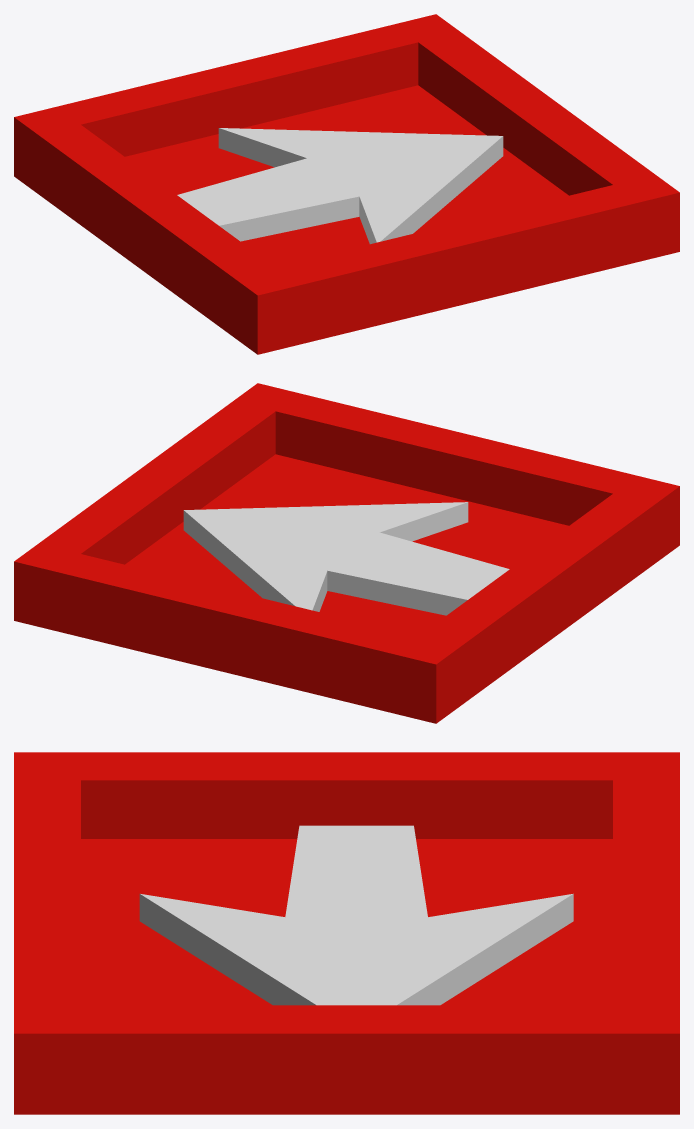
The model's file is Seta.fbx.
3 views of the same model, one above another, from view 1: azimuth 30°, elevation 25°; view 2: azimuth 150°, elevation 25°; view 3: azimuth 270°, elevation 25° (orthographic). The views are drawn at different scales.
Parts seen in each view (by area): view 1: Pickup; view 2: Pickup; view 3: Pickup.
Boxes of the visible parts, left/top/right/bottom form: Pickup: left=14, top=14, right=679, bottom=354; Pickup: left=14, top=383, right=679, bottom=723; Pickup: left=14, top=752, right=679, bottom=1114.
Bounding box in the file's own units: 383 × 58.07 × 383.
